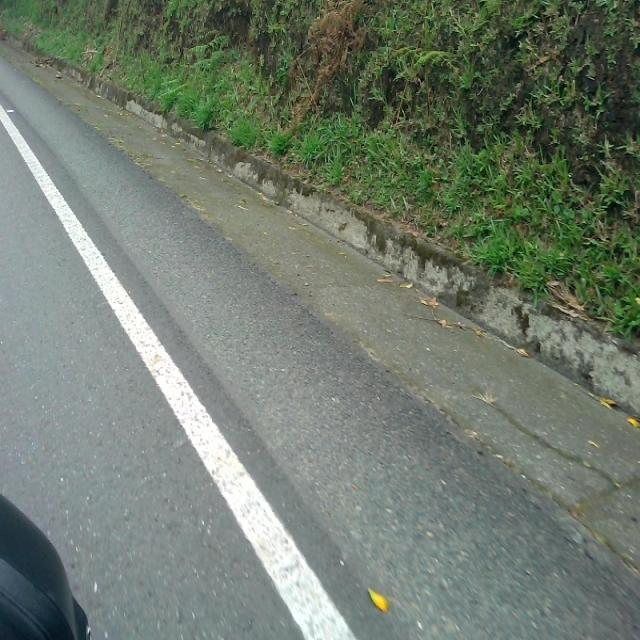DITCH: (1, 43, 638, 638), (1, 96, 638, 638), (1, 117, 638, 638)
